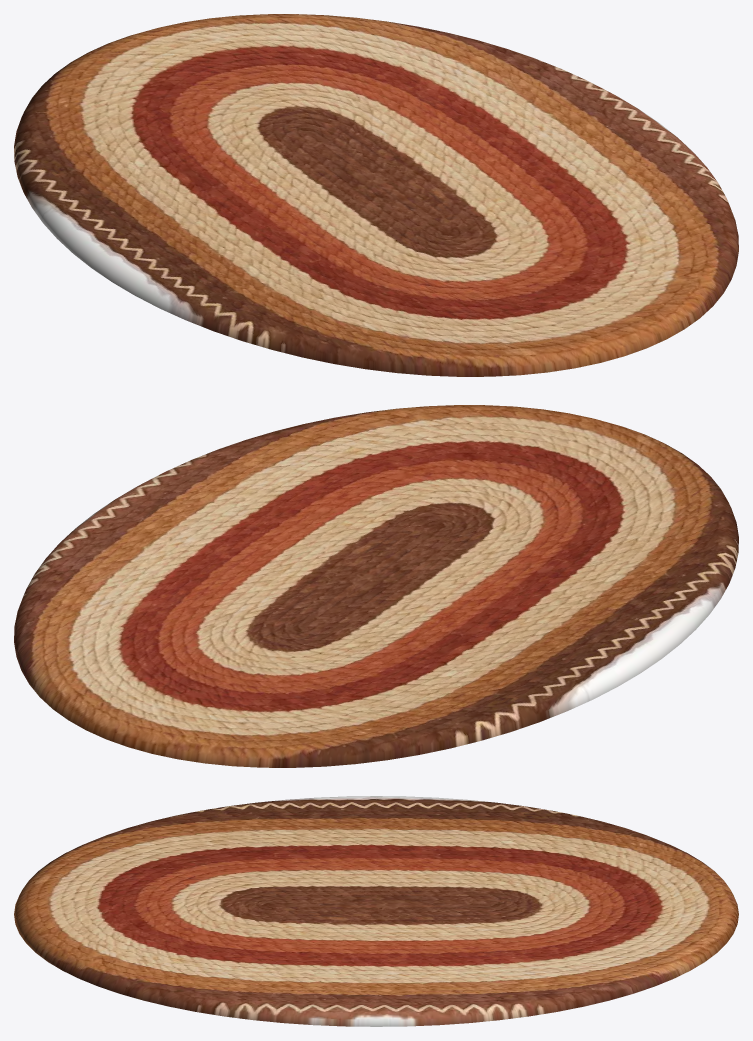
File: wyn_furn_woven_rug_painted.glb
3 views of the same model, one above another, from view 1: azimuth 30°, elevation 25°; view 2: azimuth 150°, elevation 25°; view 3: azimuth 270°, elevation 25° (orthographic). The views are drawn at different scales.
Visible parts, largest first — view 1: furn_woven_rug_painted; view 2: furn_woven_rug_painted; view 3: furn_woven_rug_painted.
Boxes of the visible parts, x1,y1,x2,y2 form: furn_woven_rug_painted: (14, 14, 738, 376); furn_woven_rug_painted: (14, 405, 738, 767); furn_woven_rug_painted: (14, 796, 738, 1026).
Bounding box in the file's own units: 2.2 × 0.0502 × 3.
1 material, 1 textured.
